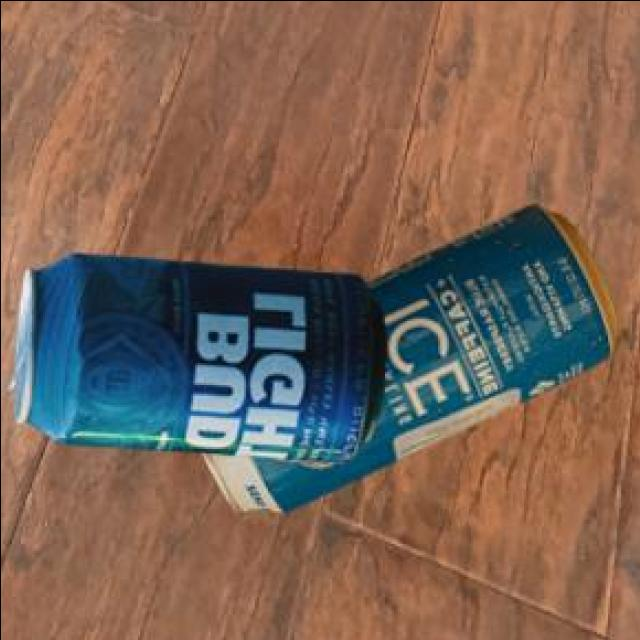logam: (204, 200, 621, 511), (12, 250, 387, 460)
